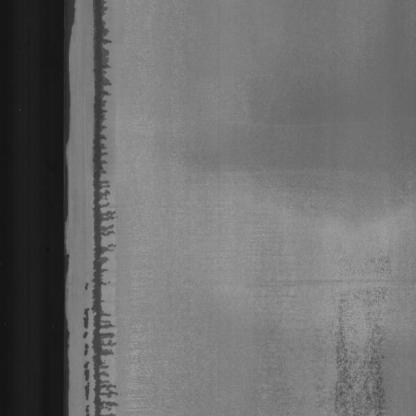oil_spot: (81, 0, 133, 406)
